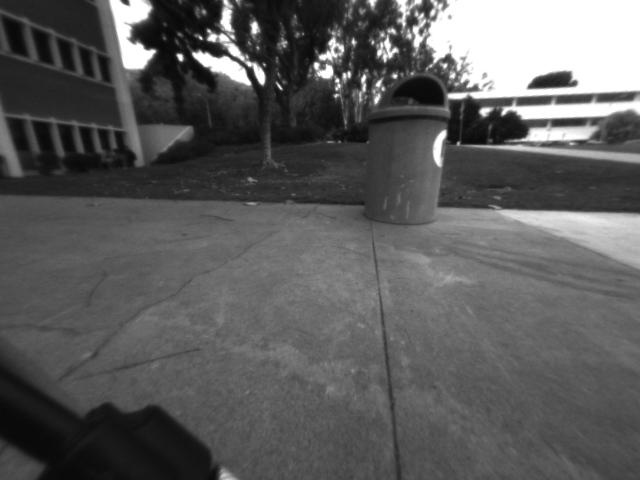trashcan: (364, 74, 449, 229)
